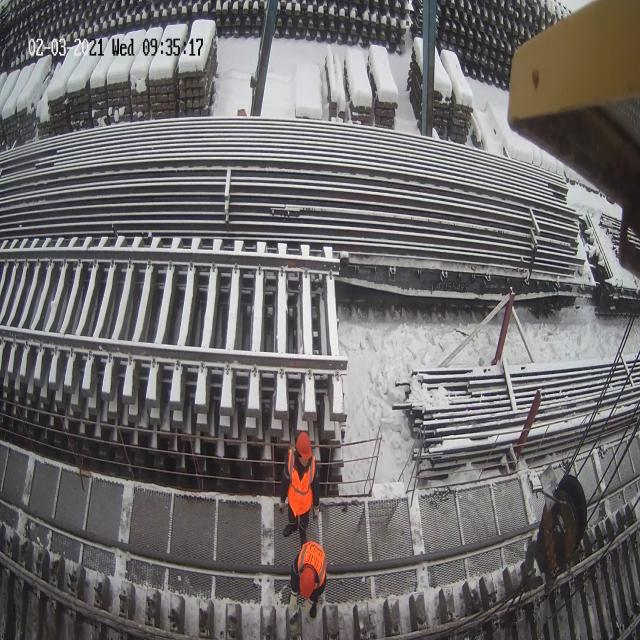Helmet: (299, 565, 316, 599), (295, 432, 312, 461)
Person: (279, 431, 320, 549), (288, 540, 327, 620)
